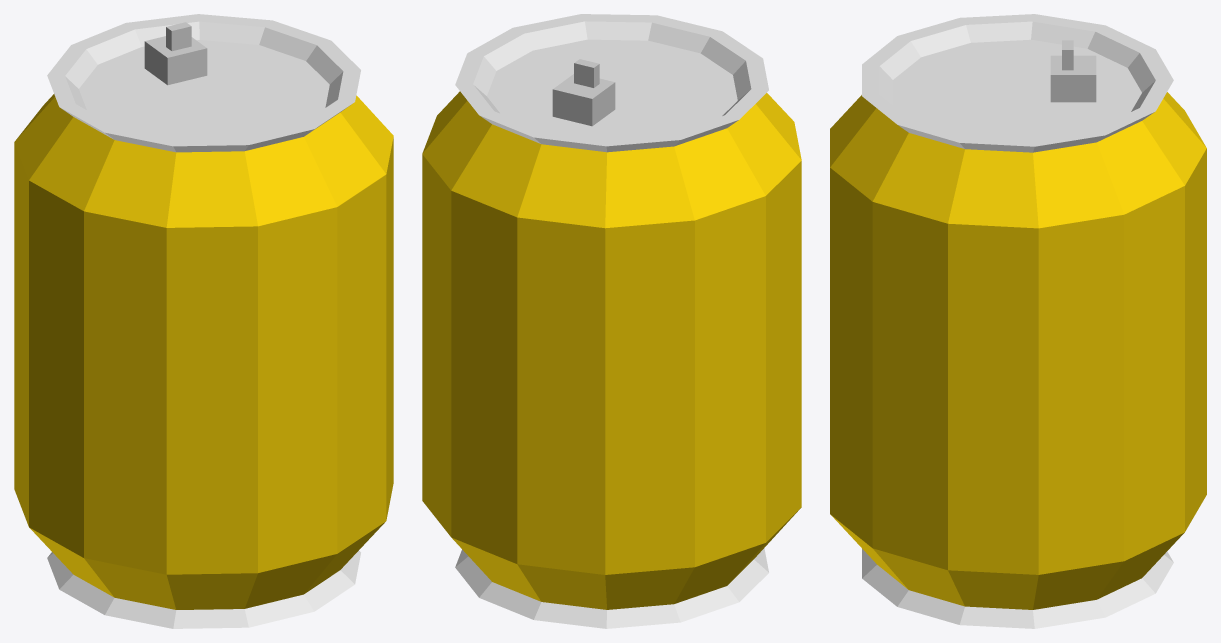
Rendered from can_yellow.glb.
3 renders of one model, left to right at view 1: azimuth 30°, elevation 25°; view 2: azimuth 150°, elevation 25°; view 3: azimuth 270°, elevation 25°, orthographic.
Parts seen in each view (by area): view 1: Cylinder.001_Material.001_0, Cylinder.001_Material.002_0, Cylinder.001_Material.003_0; view 2: Cylinder.001_Material.001_0, Cylinder.001_Material.002_0, Cylinder.001_Material.003_0; view 3: Cylinder.001_Material.001_0, Cylinder.001_Material.002_0, Cylinder.001_Material.003_0.
Boxes of the visible parts, left/top/right/bottom form: Cylinder.001_Material.001_0: left=14, top=94, right=393, bottom=609; Cylinder.001_Material.002_0: left=47, top=14, right=360, bottom=628; Cylinder.001_Material.003_0: left=144, top=22, right=207, bottom=85; Cylinder.001_Material.001_0: left=422, top=91, right=801, bottom=609; Cylinder.001_Material.002_0: left=455, top=14, right=768, bottom=628; Cylinder.001_Material.003_0: left=552, top=59, right=615, bottom=126; Cylinder.001_Material.001_0: left=830, top=92, right=1206, bottom=609; Cylinder.001_Material.002_0: left=862, top=14, right=1173, bottom=628; Cylinder.001_Material.003_0: left=1050, top=40, right=1096, bottom=102.
Size of the model in its own units: 199 by 299 by 197.
